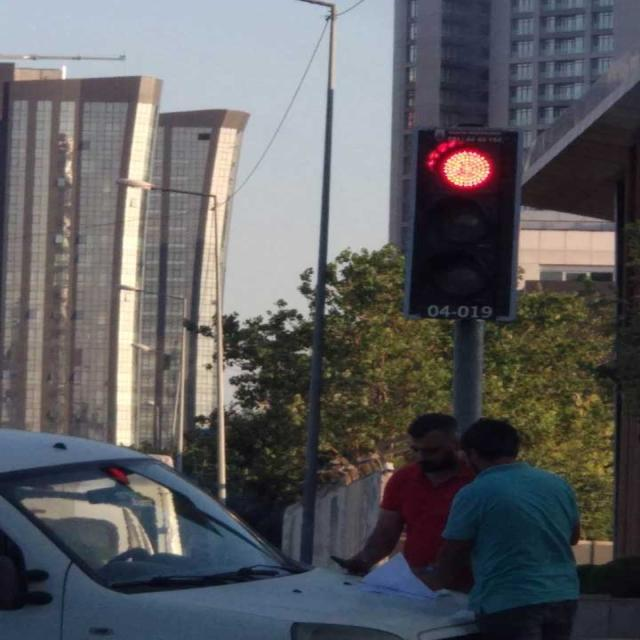kirmizi: (407, 127, 522, 321)
